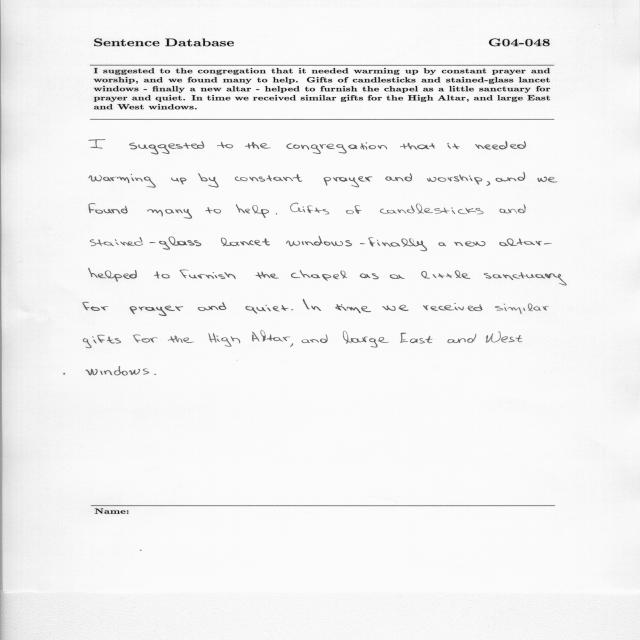word: (91, 237, 202, 250), (286, 142, 387, 154), (484, 272, 567, 286), (380, 204, 484, 215), (129, 141, 204, 155), (89, 174, 156, 188), (369, 238, 428, 252), (343, 331, 389, 347), (286, 236, 352, 247), (252, 330, 293, 347), (88, 268, 137, 282), (291, 270, 347, 281), (427, 174, 482, 185), (495, 303, 549, 314), (86, 367, 149, 376), (324, 177, 373, 188), (235, 174, 302, 182), (130, 306, 183, 316), (180, 270, 236, 279), (83, 335, 121, 348), (423, 303, 483, 311), (236, 204, 269, 218), (475, 141, 526, 150), (147, 209, 192, 219), (208, 333, 240, 347), (421, 270, 470, 279), (486, 331, 522, 343), (89, 203, 128, 214), (290, 203, 329, 214), (221, 238, 270, 246), (246, 305, 289, 314), (400, 333, 433, 344), (499, 239, 542, 247), (335, 304, 371, 313), (198, 173, 219, 187), (496, 172, 525, 182), (448, 334, 477, 343), (198, 302, 226, 311), (400, 143, 435, 150), (499, 205, 526, 214), (83, 302, 108, 311), (385, 174, 412, 182), (303, 299, 321, 311), (168, 335, 194, 343), (133, 335, 158, 343), (454, 241, 486, 247), (245, 142, 271, 149), (256, 272, 279, 279), (383, 305, 409, 311), (89, 140, 105, 149), (346, 205, 362, 214), (310, 335, 328, 343), (538, 177, 558, 183), (360, 274, 379, 280), (171, 178, 187, 185), (154, 272, 170, 279), (217, 142, 233, 148), (206, 207, 221, 213), (390, 274, 405, 279), (448, 143, 460, 149), (439, 243, 447, 247), (302, 339, 310, 343), (486, 181, 490, 186), (544, 243, 552, 244), (360, 243, 365, 244), (291, 309, 293, 311), (276, 213, 277, 215), (154, 374, 156, 375)
